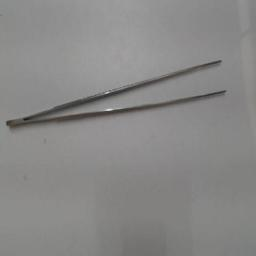DeBakey Dissector: (5, 42, 241, 136)
